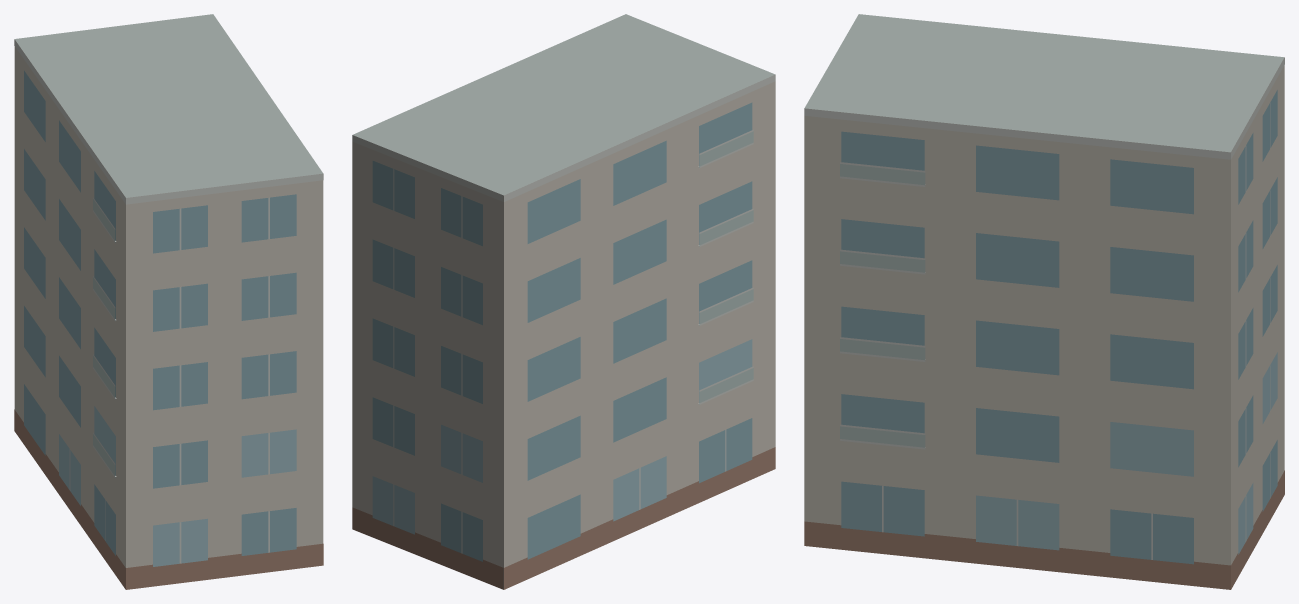
The model's file is survey-upis-32872313.glb.
3 renders of one model, left to right at view 1: azimuth 30°, elevation 25°; view 2: azimuth 150°, elevation 25°; view 3: azimuth 270°, elevation 25°, orthographic. The views are drawn at different scales.
Visible parts, largest first — view 1: survey-upis-32872313.tmp; view 2: survey-upis-32872313.tmp; view 3: survey-upis-32872313.tmp.
Boxes of the visible parts, x1,y1,x2,y2 form: survey-upis-32872313.tmp: (14,14,323,589); survey-upis-32872313.tmp: (352,14,775,589); survey-upis-32872313.tmp: (804,14,1284,589).
Bounding box in the file's own units: 9.78 × 14.4 × 14.34.
